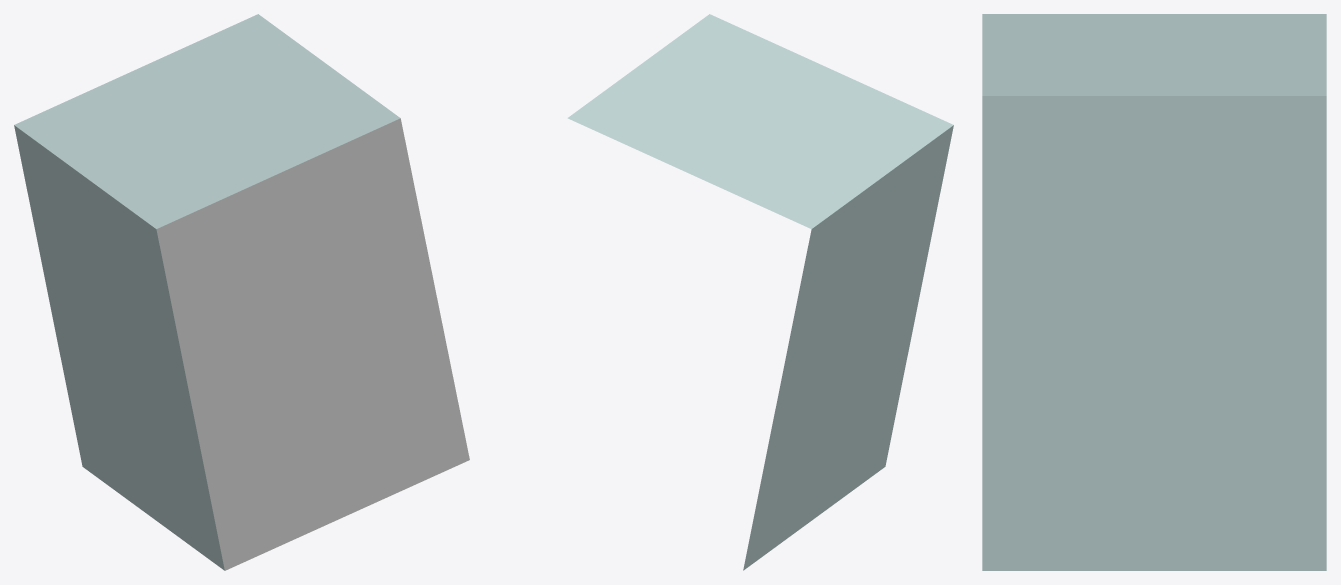
3 views of the same model, side by side, from view 1: azimuth 30°, elevation 25°; view 2: azimuth 150°, elevation 25°; view 3: azimuth 270°, elevation 25° (orthographic). The views are drawn at different scales.
Parts seen in each view (by area): view 1: 0_1_2_1_0_2_0_2_1; view 2: 0_1_2_1_0_2_0_2_1; view 3: 0_1_2_1_0_2_0_2_1.
Part boxes in pixels (left/top/right/bottom): 0_1_2_1_0_2_0_2_1: left=14, top=14, right=469, bottom=570; 0_1_2_1_0_2_0_2_1: left=567, top=14, right=953, bottom=570; 0_1_2_1_0_2_0_2_1: left=982, top=14, right=1326, bottom=570.
Bounding box in the file's own units: 3.81 × 4.76 × 3.
